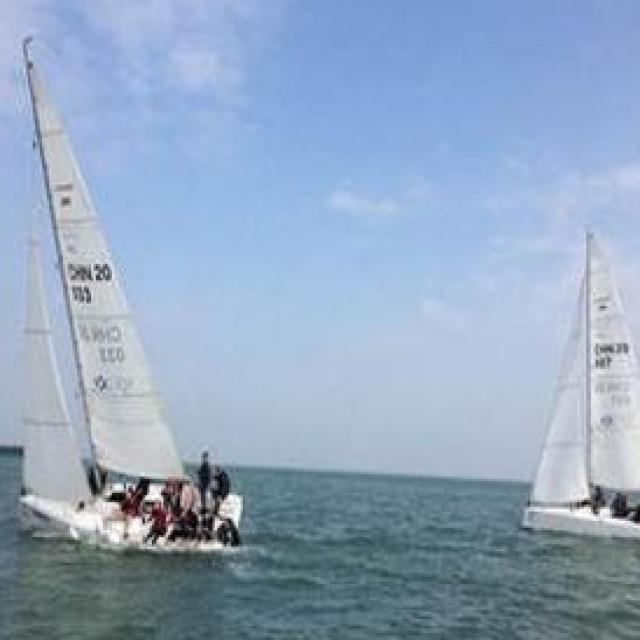sailboat: (0, 35, 250, 558), (518, 221, 640, 551)
